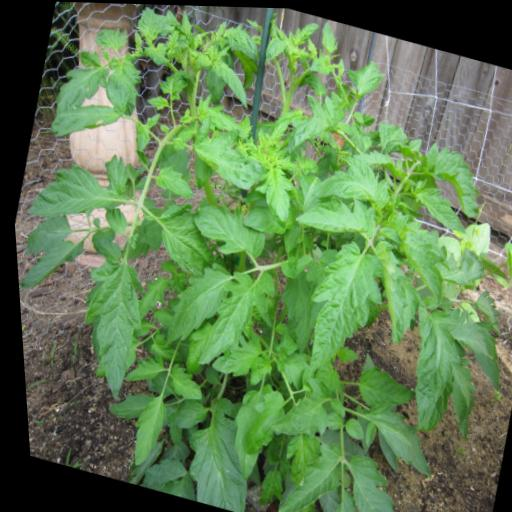Healthy: (287, 238, 385, 390), (60, 255, 154, 403), (385, 296, 471, 438), (19, 133, 135, 238), (167, 388, 265, 512), (186, 255, 280, 381), (152, 245, 236, 358), (349, 236, 422, 345), (351, 395, 441, 478), (406, 136, 492, 218), (181, 117, 273, 193), (261, 429, 345, 512), (182, 197, 271, 264), (12, 226, 86, 306), (259, 366, 333, 444), (48, 44, 116, 128), (322, 450, 414, 512), (264, 264, 323, 355), (306, 154, 391, 215), (284, 86, 352, 158), (292, 185, 376, 242), (400, 171, 475, 233), (232, 383, 288, 461), (117, 391, 166, 469), (247, 157, 300, 229), (347, 359, 415, 415), (97, 47, 149, 118), (204, 322, 263, 381), (18, 206, 72, 265), (204, 55, 256, 108), (347, 142, 410, 180), (341, 54, 388, 103), (116, 344, 162, 389), (150, 161, 198, 200), (160, 361, 203, 401), (166, 396, 204, 434), (241, 349, 271, 389), (276, 215, 300, 253), (317, 19, 343, 54), (99, 205, 127, 234), (328, 341, 358, 366), (336, 414, 362, 439), (144, 92, 170, 112), (317, 408, 338, 429)
